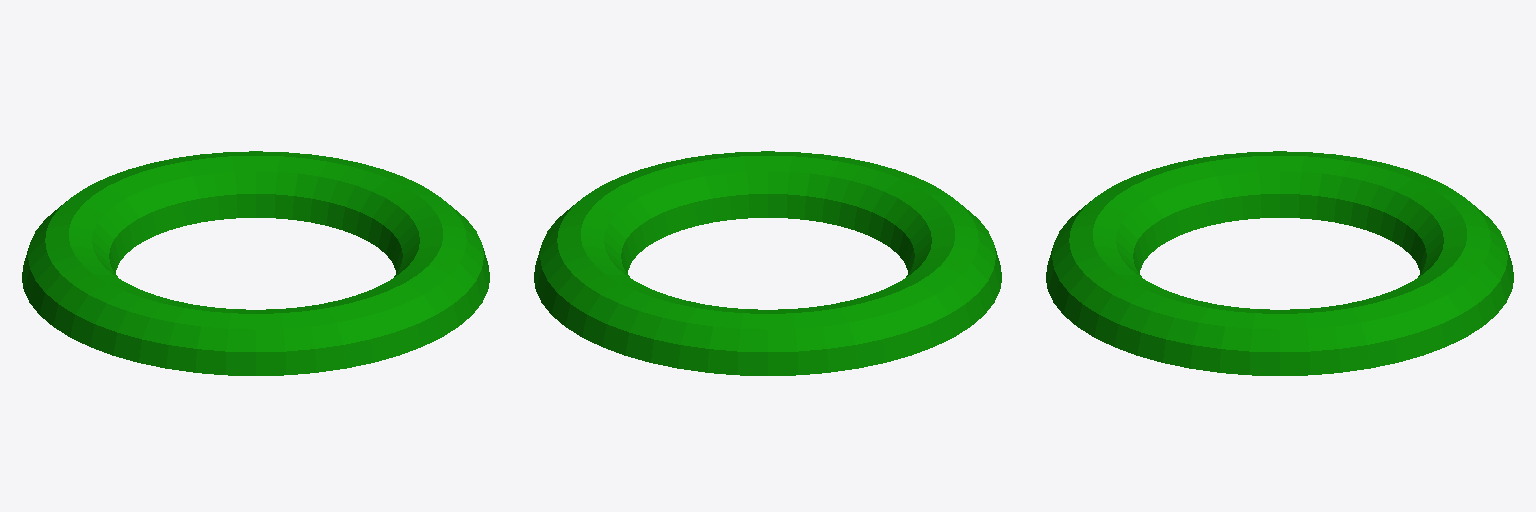
File: target.obj
3 renders of one model, left to right at view 1: azimuth 30°, elevation 25°; view 2: azimuth 150°, elevation 25°; view 3: azimuth 270°, elevation 25°, orthographic.
Parts seen in each view (by area): view 1: Torus; view 2: Torus; view 3: Torus.
Boxes of the visible parts, box(x1,y1,x2,y2) form: Torus: box(22, 151, 489, 375); Torus: box(534, 151, 1001, 375); Torus: box(1046, 151, 1513, 375).
Size of the model in its own units: 0.875 by 0.0875 by 0.875.